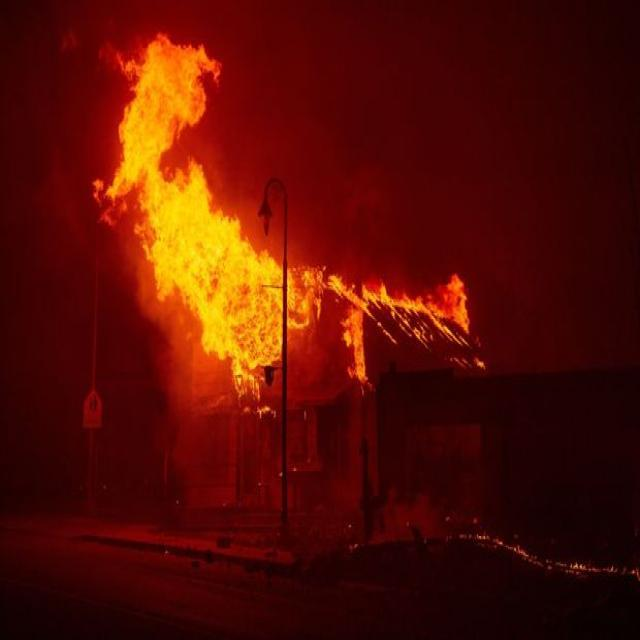Fire: (136, 162, 282, 390), (106, 34, 220, 199), (327, 274, 486, 380), (289, 268, 324, 328)
